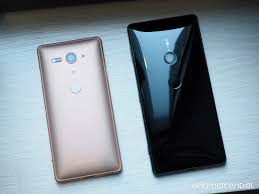sony: (126, 12, 229, 182)
